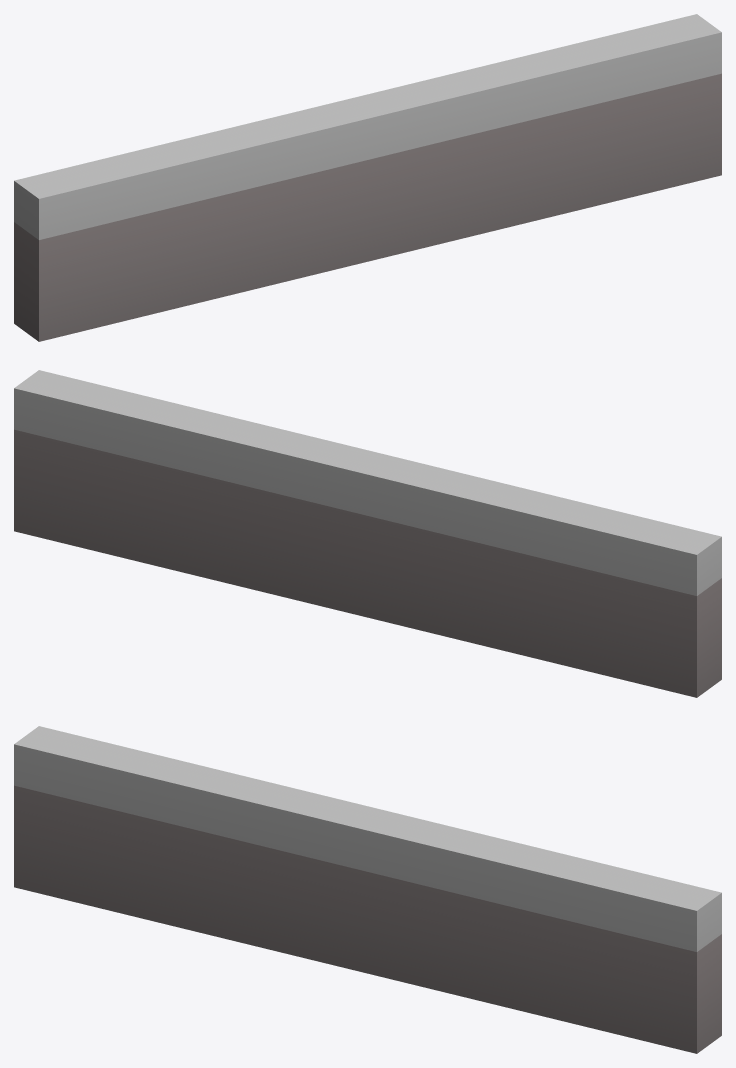
File: obj_deliWall.fbx
3 views of the same model, one above another, from view 1: azimuth 30°, elevation 25°; view 2: azimuth 150°, elevation 25°; view 3: azimuth 330°, elevation 25° (orthographic).
Visible parts, largest first — view 1: geo_deliWall; view 2: geo_deliWall; view 3: geo_deliWall.
Part boxes in pixels (x1,y1,x2,y2): geo_deliWall: (14,14,721,341); geo_deliWall: (14,370,721,697); geo_deliWall: (14,726,721,1053).
Bounding box in the file's own units: 500 × 100 × 31.71.
1 material, 1 textured.
